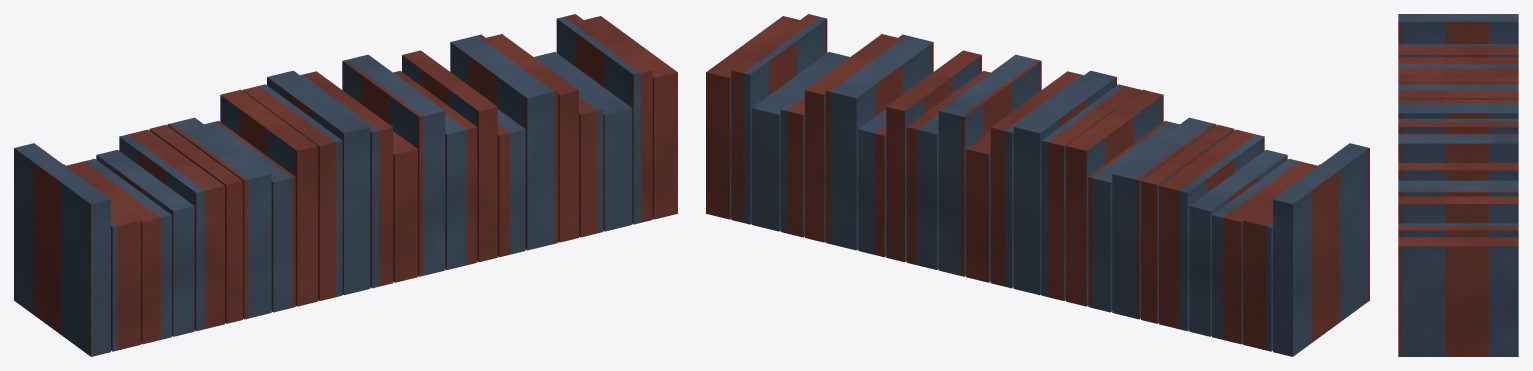
File: BookGroup_Medium_2_LOD1.gltf
3 renders of one model, left to right at view 1: azimuth 30°, elevation 25°; view 2: azimuth 150°, elevation 25°; view 3: azimuth 270°, elevation 25°, orthographic. The views are drawn at different scales.
Parts seen in each view (by area): view 1: BookGroup_Medium_2_LOD1; view 2: BookGroup_Medium_2_LOD1; view 3: BookGroup_Medium_2_LOD1.
Boxes of the visible parts, <box> form: BookGroup_Medium_2_LOD1: <box>14,14,677,356</box>; BookGroup_Medium_2_LOD1: <box>706,14,1369,356</box>; BookGroup_Medium_2_LOD1: <box>1398,14,1518,356</box>.
Size of the model in its own units: 1.1 by 0.29 by 0.25.
Materials: 1 (1 with a texture image).
